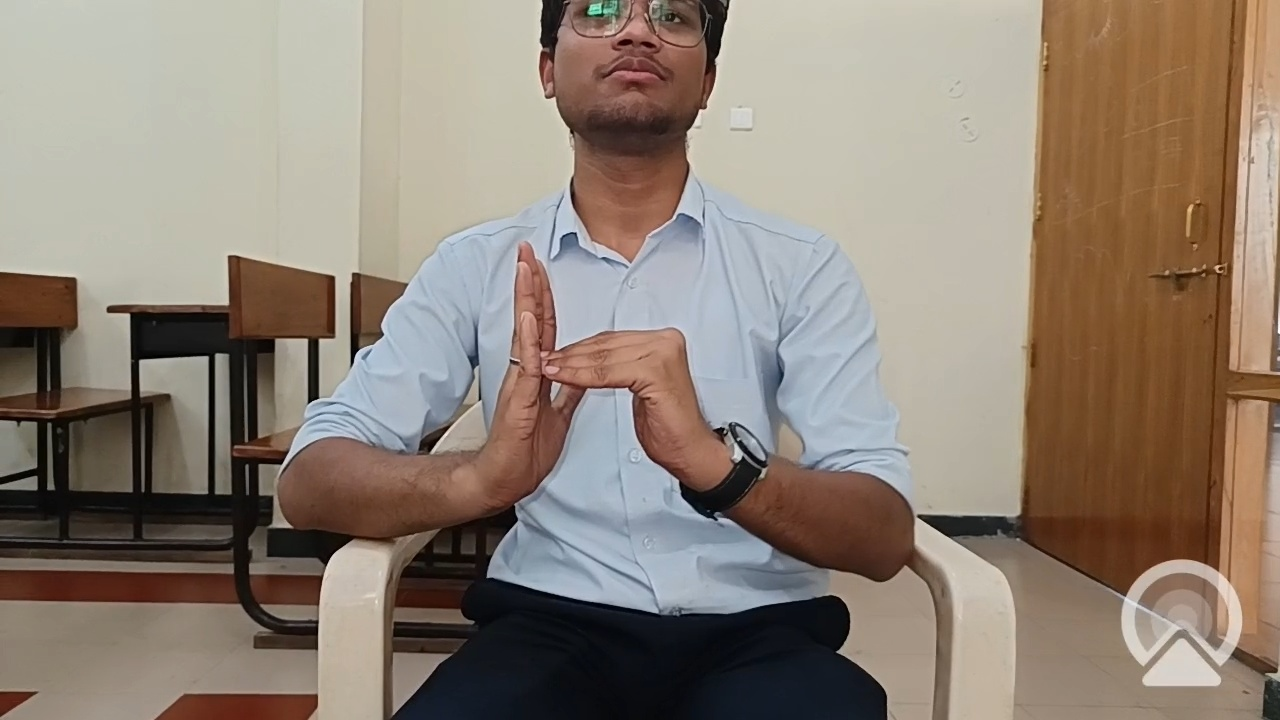Z: (443, 199, 756, 584)
